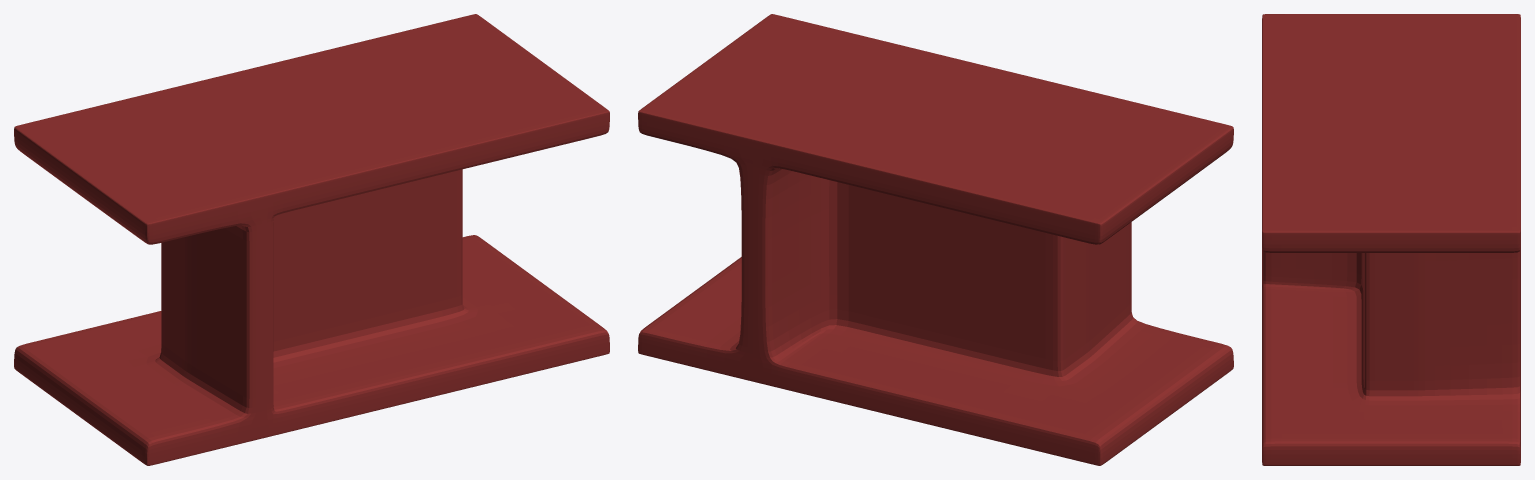
File: steel_connector_lr.fbx
The picture shows the model from 3 angles, left to right: view 1: azimuth 30°, elevation 25°; view 2: azimuth 150°, elevation 25°; view 3: azimuth 270°, elevation 25°; orthographic projection. The views are drawn at different scales.
Parts seen in each view (by area): view 1: Cube.001; view 2: Cube.001; view 3: Cube.001.
Part boxes in pixels (x1,y1,x2,y2): Cube.001: (14,14,609,465); Cube.001: (638,14,1233,465); Cube.001: (1262,14,1520,465).
Size of the model in its own units: 200 by 100 by 100.
